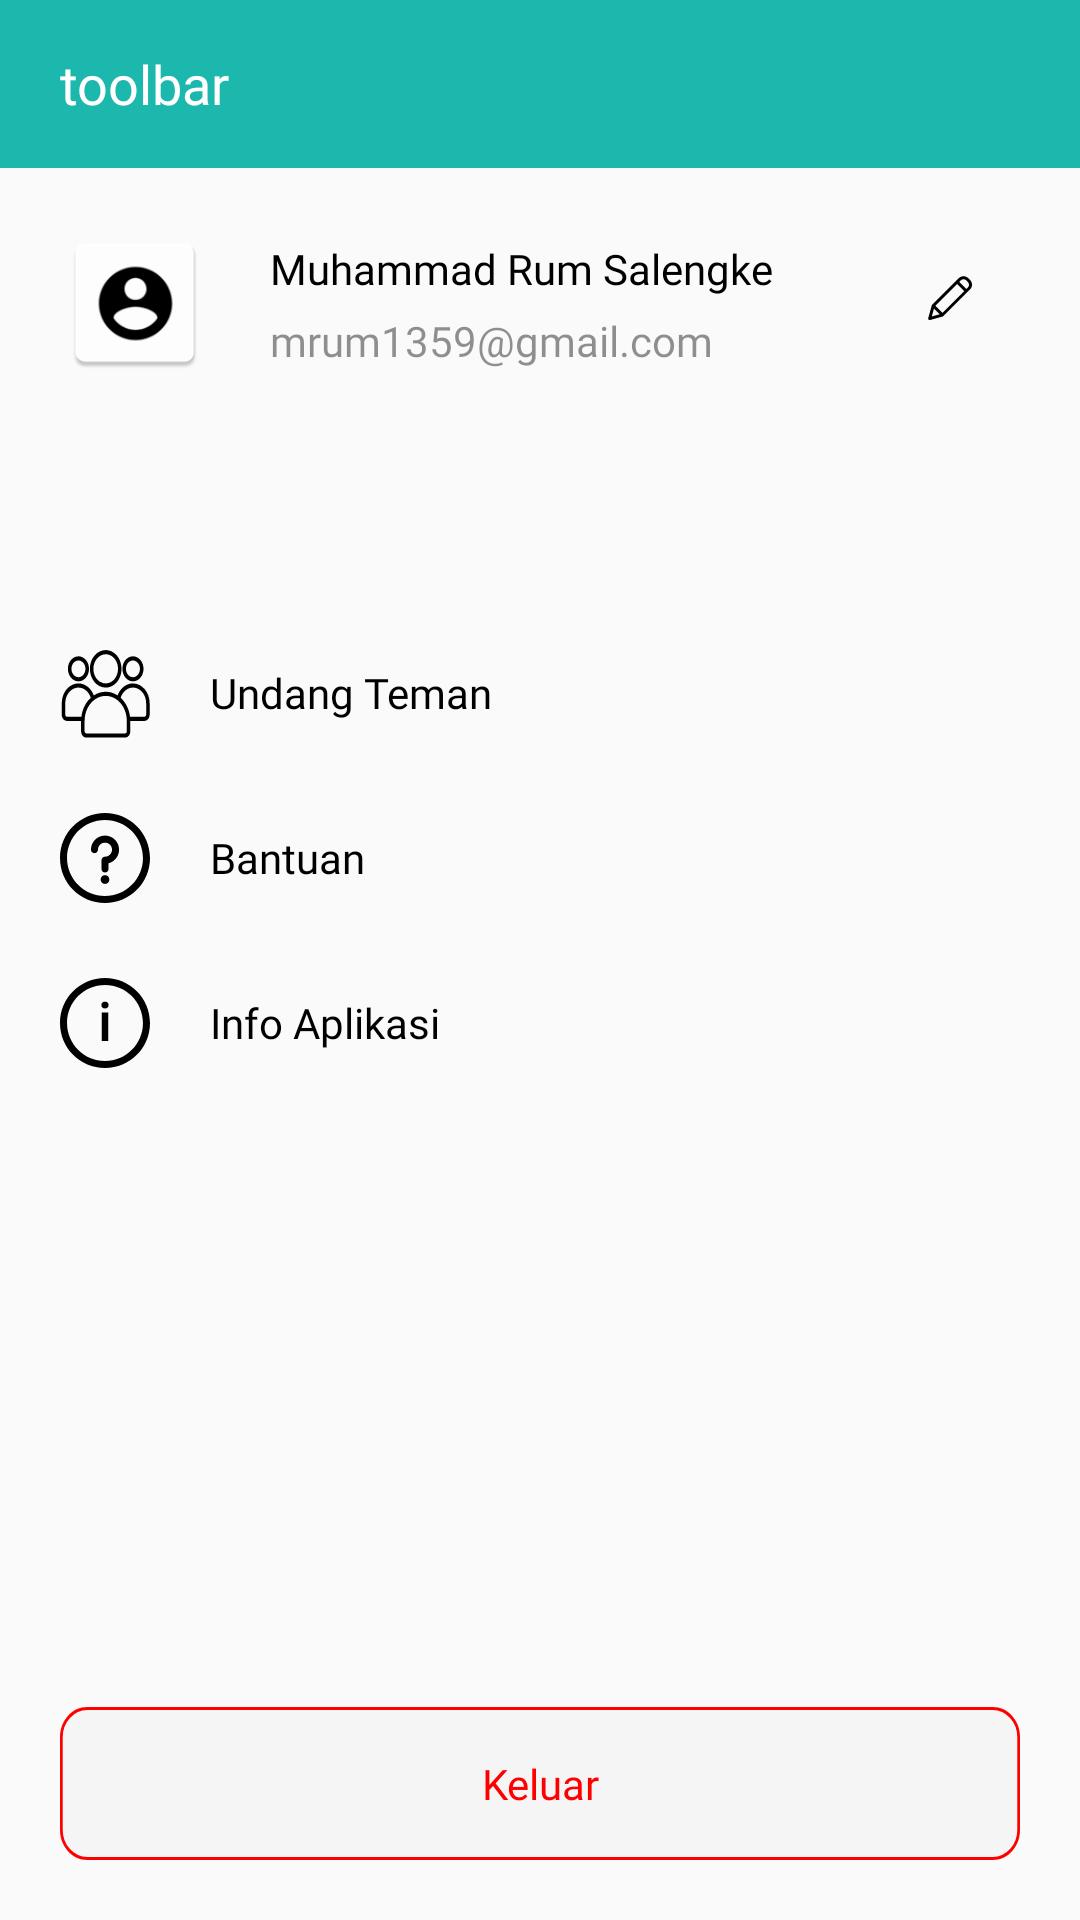

Locate icon controls on the screen. Image size 1080w x 1920h, boxes as (x1, y1, x2, y2).
akun fix: (76, 255, 195, 366)
edit: (928, 276, 972, 320)
tanya: (60, 813, 150, 903)
